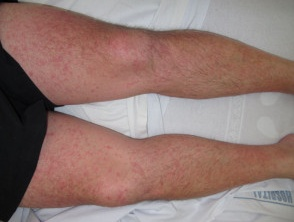SJS-TEN: (0, 0, 177, 110), (18, 126, 194, 208)
